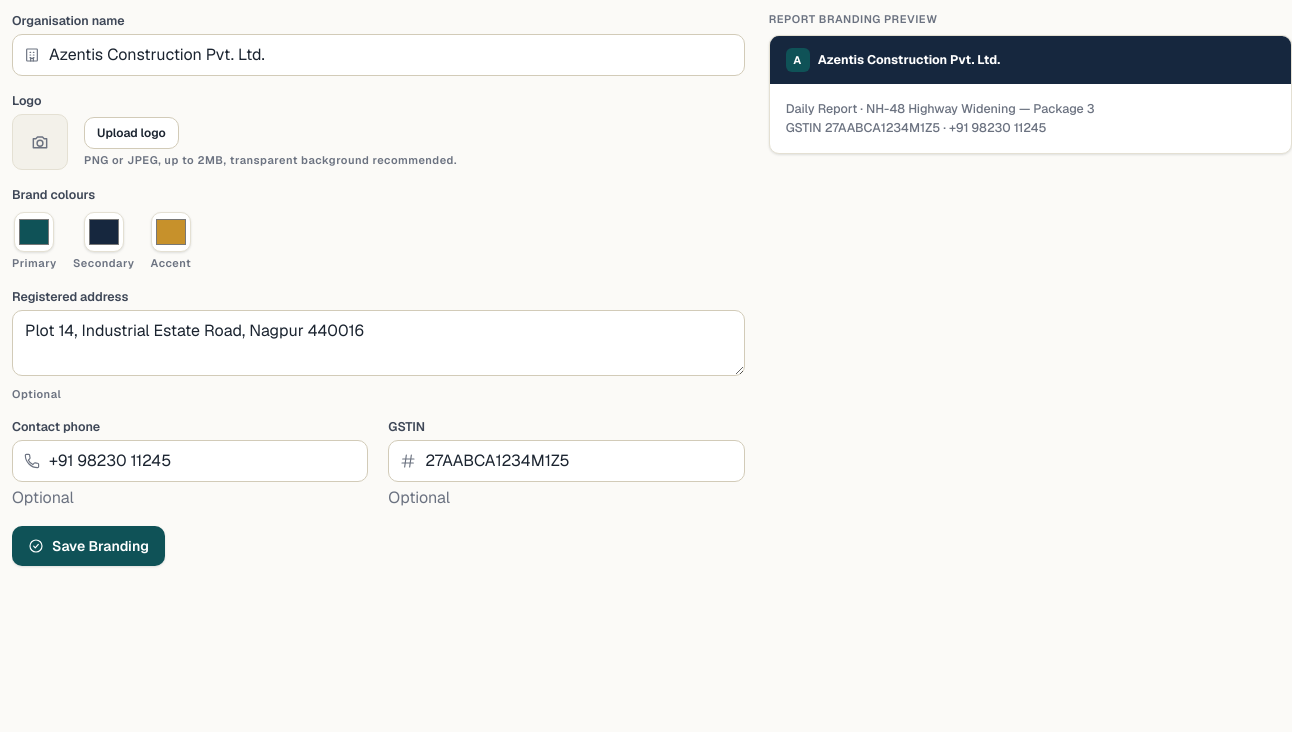
BrandingForm (Story 14.1) › PATCHes /branding-config with the shared-schema payload and confirms success (AC #1)
Step 1. Click the button "Save Branding" → point(88, 546), box [12,526,165,566]
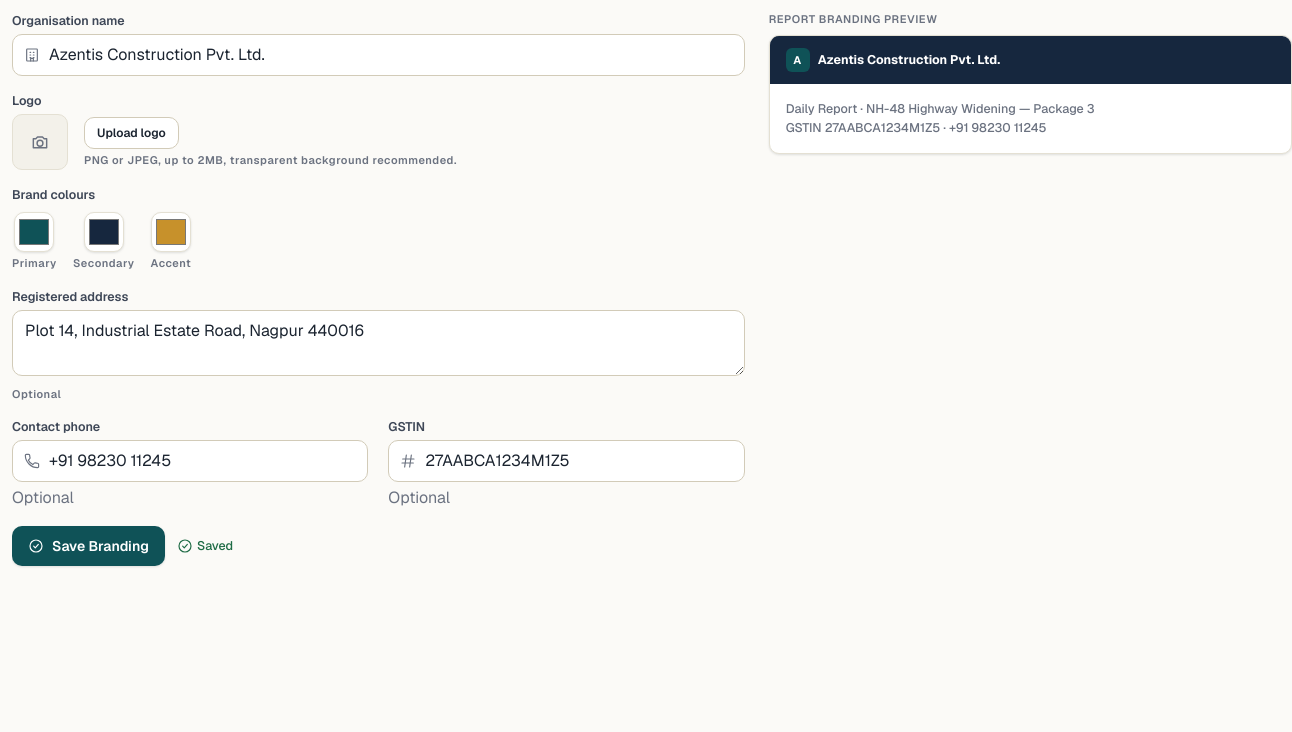
Now the text "Saved" is shown, box [177,537,233,555]
